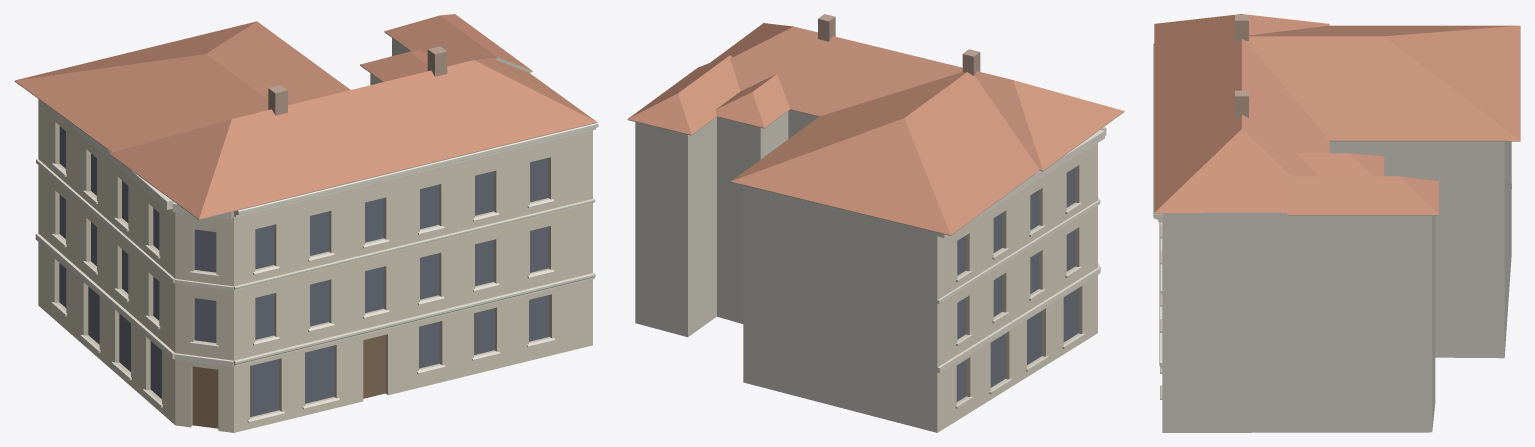
3 views of the same model, side by side, from view 1: azimuth 30°, elevation 25°; view 2: azimuth 150°, elevation 25°; view 3: azimuth 270°, elevation 25° (orthographic). The views are drawn at different scales.
Visible parts, largest first — view 1: CP_267_Masonry, CP_267_Roof, CP_267_WingRoof_Rear_Wing_W, CP_267_WingRoof_Rear_Wing_E, CP_267_Cornice_main_0, CP_267_Cornice_shop_0, CP_267_Cornice_string2_0, CP_267_WingRoof_Rear_Wing_M, CP_267_Cornice_kulova_shop, CP_267_Cornice_kulova_main, CP_267_Cornice_kulova_string2, CP_267_Roof_EaveClosure_0 (+1 smaller); view 2: CP_267_Masonry, CP_267_WingRoof_Rear_Wing_W, CP_267_Roof, CP_267_WingRoof_Rear_Wing_E, CP_267_WingRoof_Rear_Wing_M, CP_267_Cornice_kulova_shop, CP_267_Cornice_kulova_main, CP_267_Cornice_kulova_string2; view 3: CP_267_Masonry, CP_267_WingRoof_Rear_Wing_W, CP_267_Roof, CP_267_WingRoof_Rear_Wing_E, CP_267_WingRoof_Rear_Wing_M, CP_267_Cornice_main_0, CP_267_Chimney_1, CP_267_Chimney_0, CP_267_WingRoof_Rear_Wing_W_EaveClosure_2.
Part boxes in pixels (box(x1,y1,x2,y2)): CP_267_Masonry: box(38, 38, 592, 432); CP_267_Roof: box(109, 58, 596, 218); CP_267_WingRoof_Rear_Wing_W: box(14, 21, 350, 152); CP_267_WingRoof_Rear_Wing_E: box(384, 14, 532, 71); CP_267_Cornice_main_0: box(234, 122, 598, 217); CP_267_Cornice_shop_0: box(234, 272, 595, 366); CP_267_Cornice_string2_0: box(234, 198, 595, 290); CP_267_WingRoof_Rear_Wing_M: box(360, 49, 427, 81); CP_267_Cornice_kulova_shop: box(35, 233, 174, 358); CP_267_Cornice_kulova_main: box(49, 107, 173, 209); CP_267_Cornice_kulova_string2: box(36, 159, 174, 282); CP_267_Roof_EaveClosure_0: box(193, 125, 586, 219); CP_267_Masonry: box(635, 110, 1097, 432); CP_267_WingRoof_Rear_Wing_W: box(731, 72, 1039, 235); CP_267_Roof: box(710, 23, 1124, 170); CP_267_WingRoof_Rear_Wing_E: box(627, 55, 740, 134); CP_267_WingRoof_Rear_Wing_M: box(715, 74, 789, 127); CP_267_Cornice_kulova_shop: box(937, 267, 1100, 372); CP_267_Cornice_kulova_main: box(937, 129, 1104, 238); CP_267_Cornice_kulova_string2: box(937, 200, 1099, 303); CP_267_Masonry: box(1162, 141, 1511, 432); CP_267_WingRoof_Rear_Wing_W: box(1246, 25, 1520, 140); CP_267_Roof: box(1154, 14, 1329, 212); CP_267_WingRoof_Rear_Wing_E: box(1287, 176, 1438, 214); CP_267_WingRoof_Rear_Wing_M: box(1296, 153, 1384, 176); CP_267_Cornice_main_0: box(1153, 43, 1162, 222); CP_267_Chimney_1: box(1235, 90, 1248, 117); CP_267_Chimney_0: box(1235, 15, 1248, 42); CP_267_WingRoof_Rear_Wing_W_EaveClosure_2: box(1329, 140, 1520, 141).
Size of the model in its own units: 22.99 by 15.8 by 18.45.
